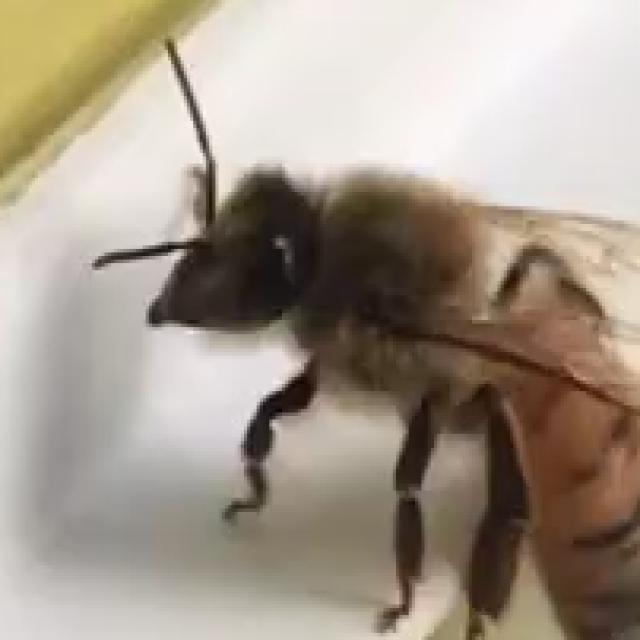honeybee: (110, 110, 630, 558)
